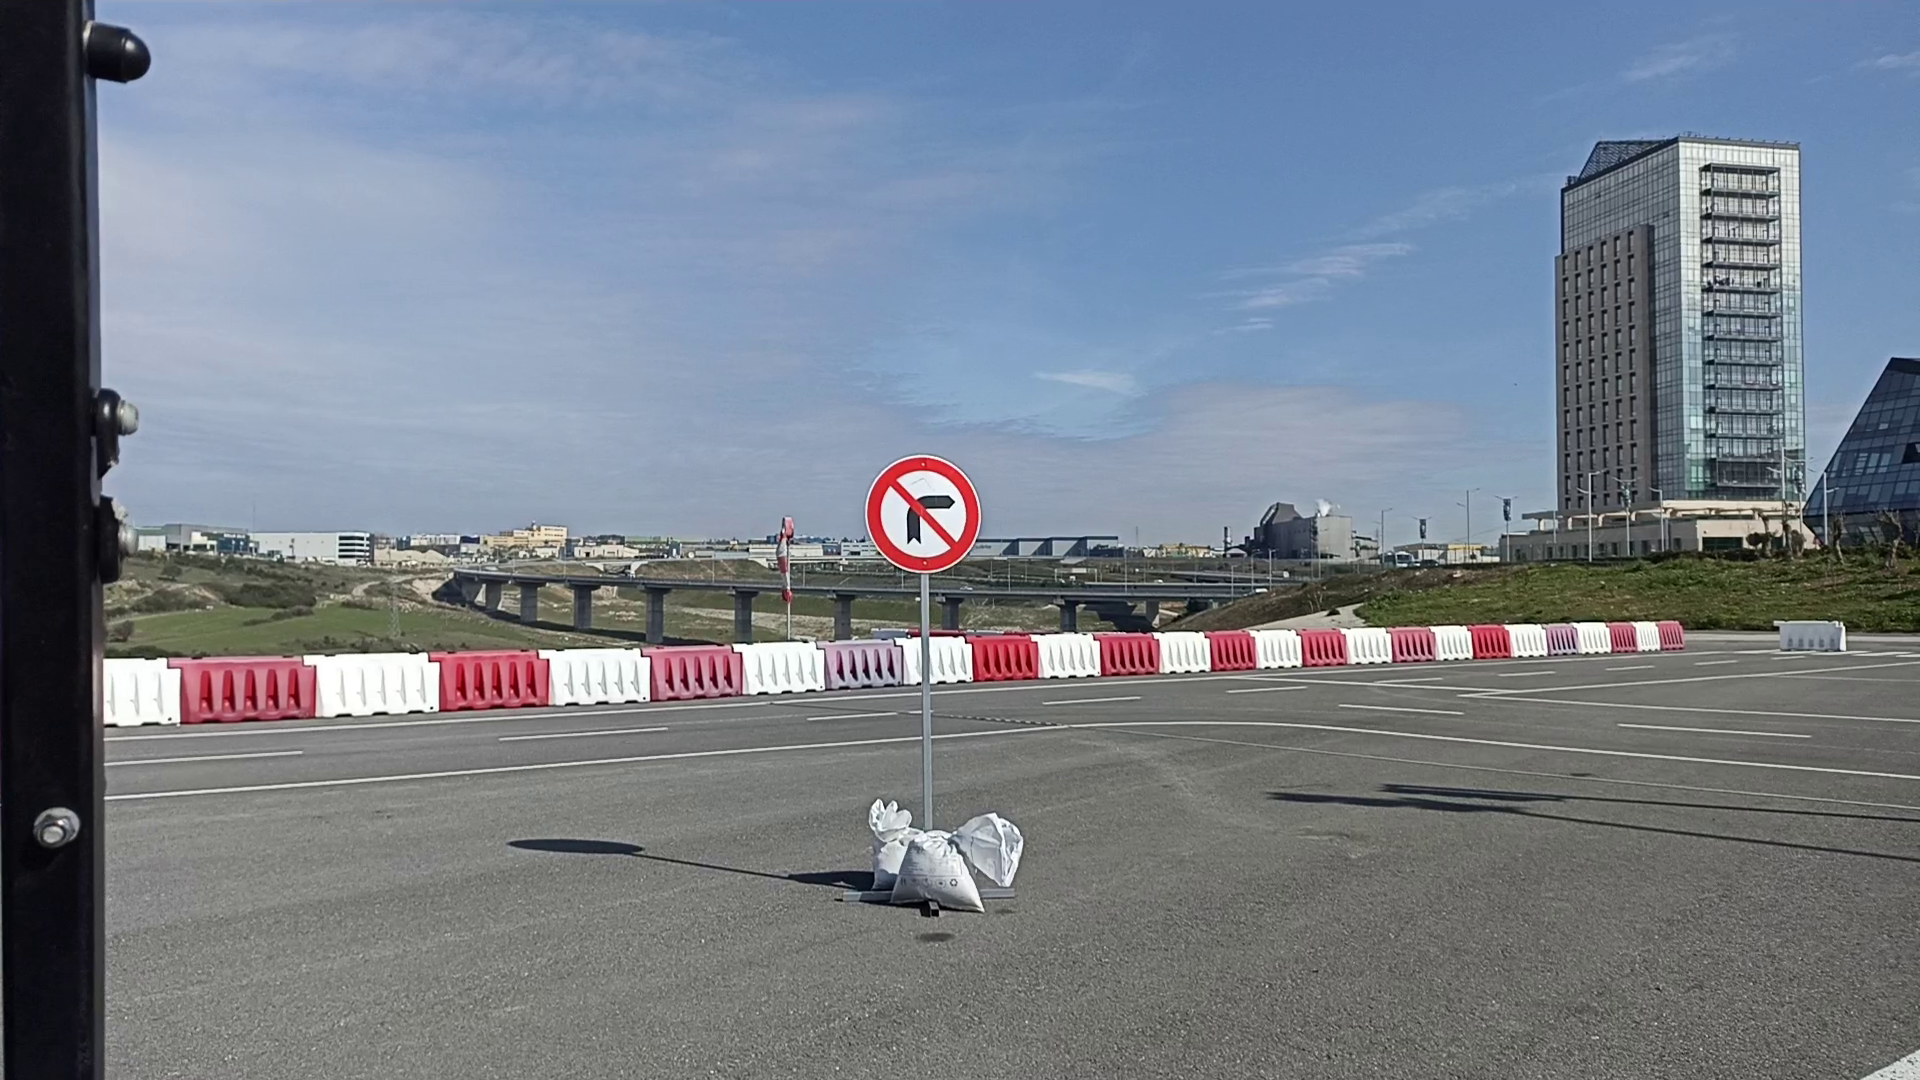noleftturn: (861, 448, 982, 576)
